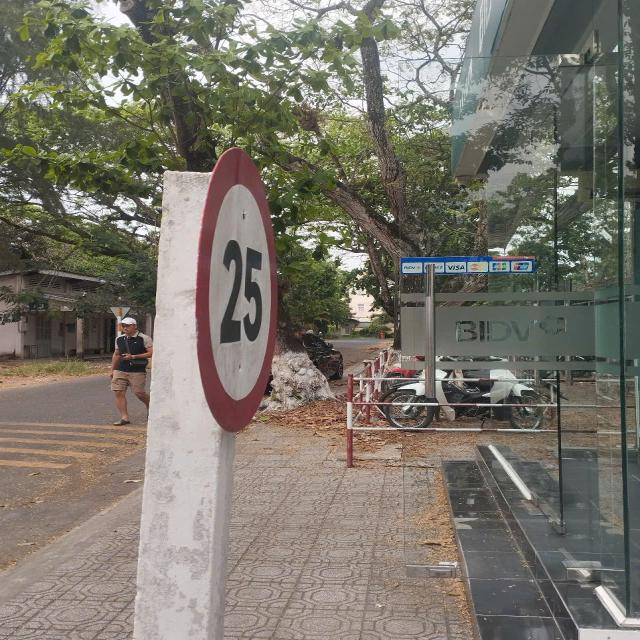Tre_Em: (194, 148, 280, 432)
